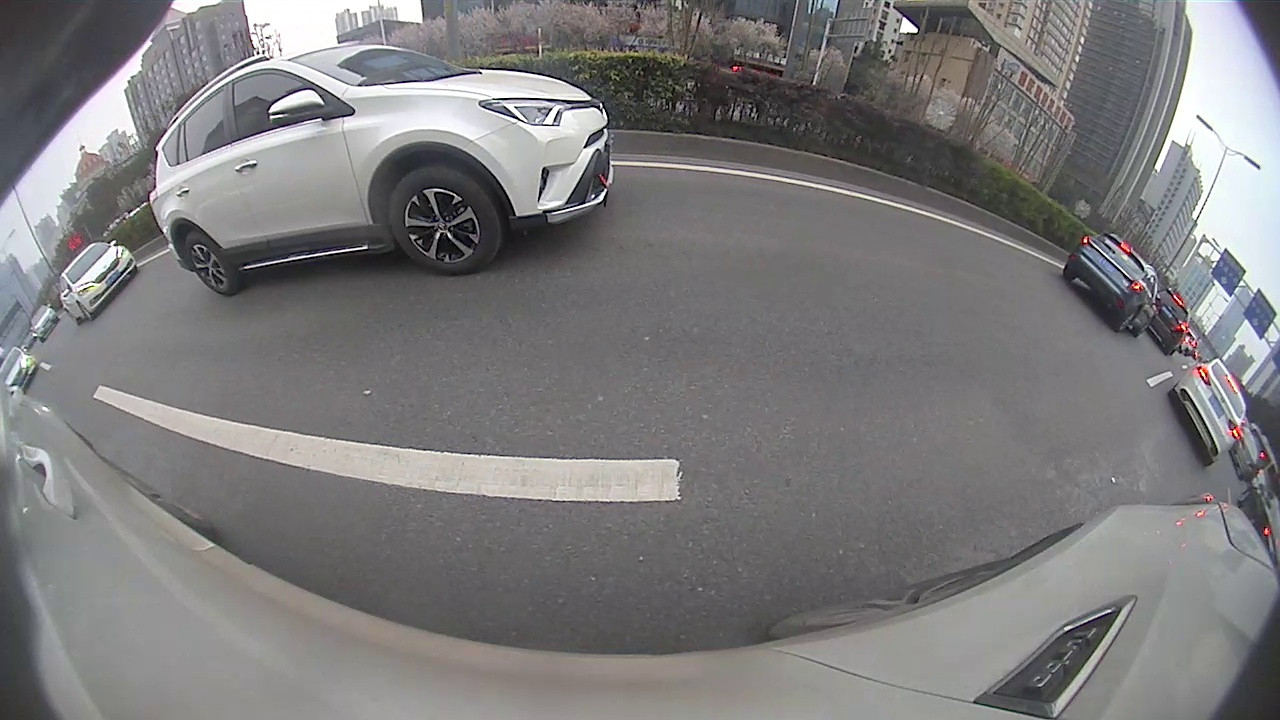car: (148, 41, 615, 297), (1061, 230, 1164, 341), (1167, 355, 1250, 465), (58, 236, 140, 324), (1142, 288, 1193, 356), (1, 345, 41, 395)
front: (391, 163, 501, 273)
rear: (183, 235, 233, 293)
